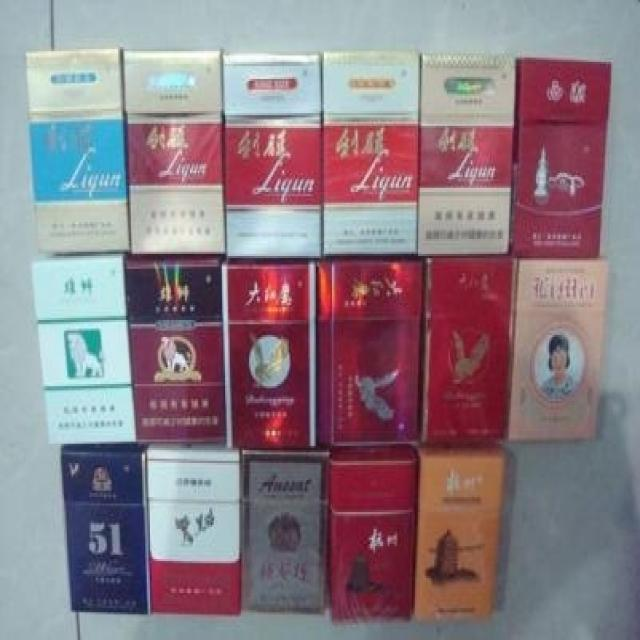box: (24, 45, 128, 252), (121, 49, 225, 256), (321, 49, 420, 260), (417, 51, 517, 256), (511, 55, 611, 260), (223, 51, 321, 260), (318, 254, 425, 444), (32, 252, 136, 446), (126, 254, 228, 448), (509, 256, 608, 444), (223, 258, 318, 448), (140, 439, 241, 614), (410, 444, 508, 623), (423, 254, 511, 444), (329, 442, 417, 623), (59, 439, 150, 614), (238, 444, 330, 614)
